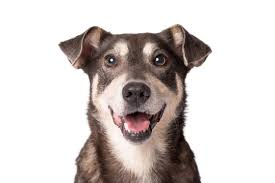Dog: (56, 29, 233, 146)
